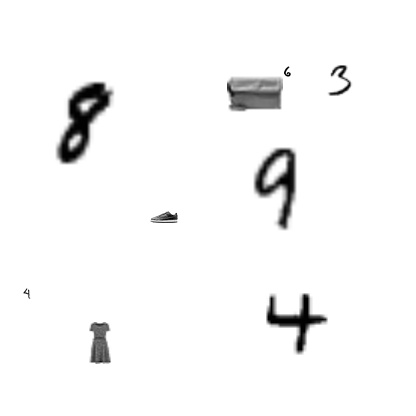3: (319, 58, 361, 100)
4: (252, 276, 336, 360), (20, 286, 34, 300)
6: (280, 65, 294, 79)
8: (25, 63, 137, 175)
9: (223, 125, 335, 237)
Bag: (227, 65, 283, 121)
Dress: (79, 322, 121, 364)
Sneaker: (150, 203, 178, 231)
